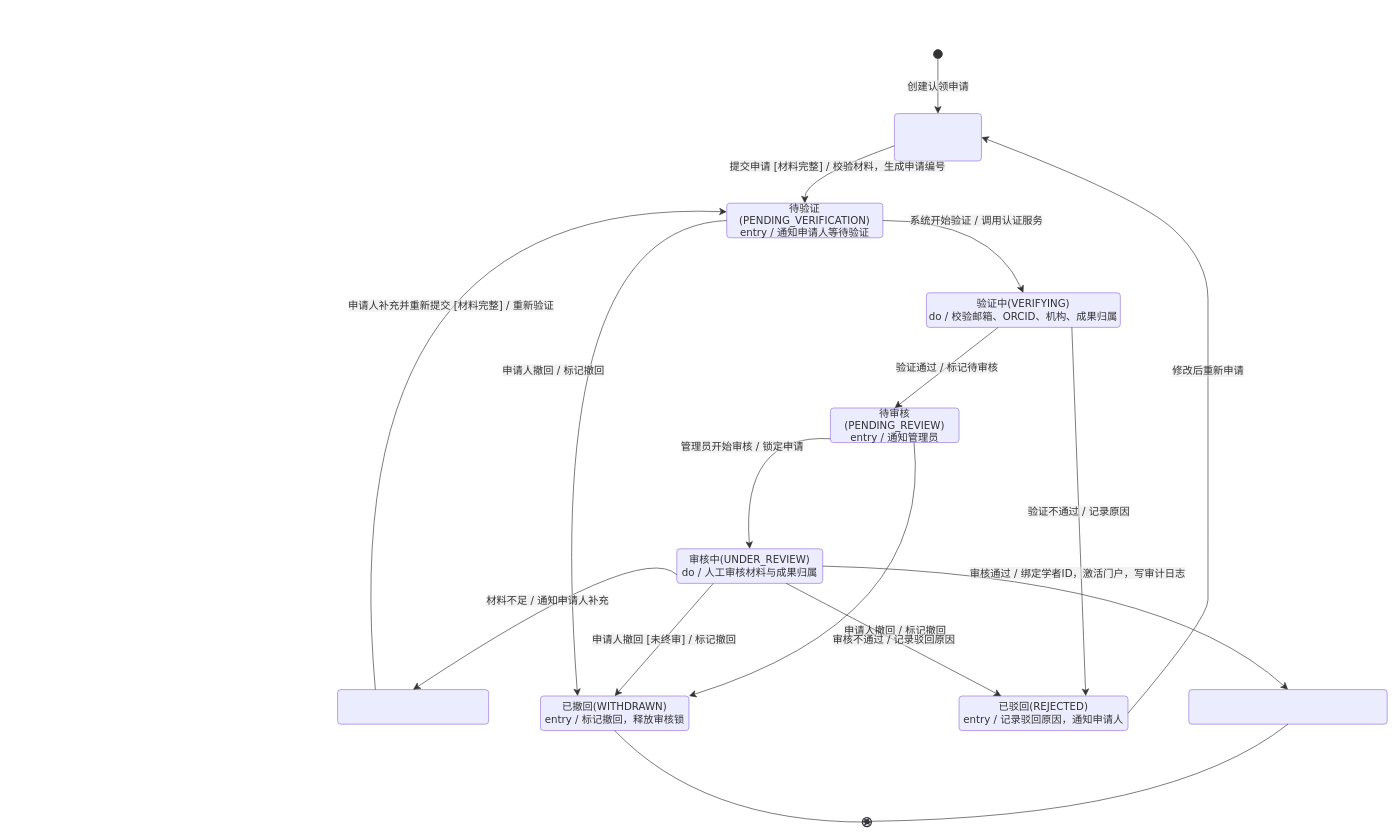
Image size: 1398x838. Some labels were removed from this diagram. The shapes that lost their labels are listed below. From the top down, each one's centre as x and y in pixels, then its label:
(x=937, y=137): 草稿(DRAFT) entry / 保存草稿 do / 允许编辑
(x=413, y=706): 需补充材料(NEED_MORE_INFO) entry / 发送补充材料通知
(x=1287, y=706): 已通过(APPROVED) entry / 绑定学者ID，激活门户，记录审计
